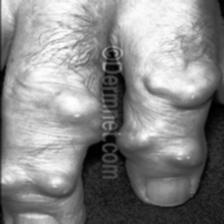Unclassified: (152, 61, 220, 108), (27, 168, 79, 205)
